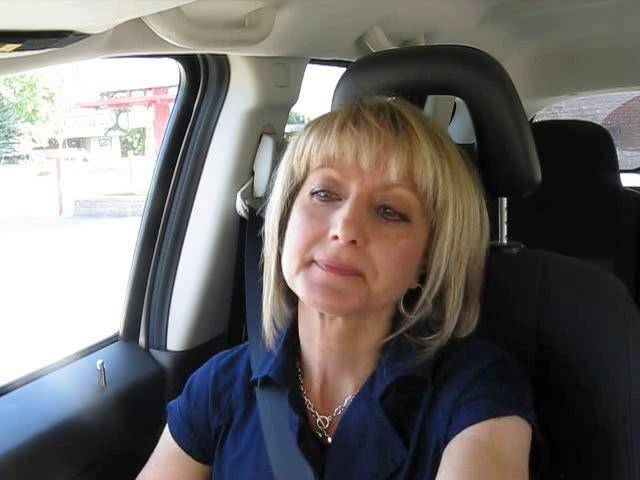no_yawn: (288, 244, 376, 294)
open_eyeL: (300, 177, 354, 215)
open_eyeR: (360, 194, 429, 236)
